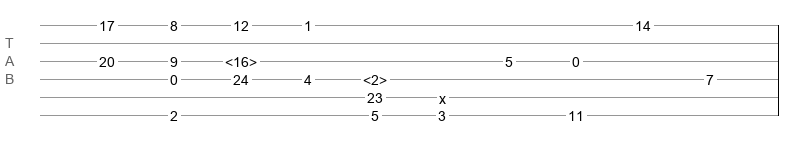0: (170, 72, 178, 82), (572, 54, 580, 64)
1: (304, 18, 312, 28)
11: (568, 108, 584, 118)
12: (233, 18, 249, 28)
14: (635, 18, 651, 28)
17: (99, 18, 115, 28)
2: (170, 108, 178, 118)
20: (99, 54, 115, 64)
23: (367, 90, 383, 100)
24: (233, 72, 249, 82)
3: (438, 108, 446, 118)
4: (304, 72, 312, 82)
5: (371, 108, 379, 118), (505, 54, 513, 64)
7: (706, 72, 714, 82)
8: (170, 18, 178, 28)
9: (170, 54, 178, 64)
harmonic: (225, 54, 257, 64), (363, 72, 387, 82)
x: (439, 91, 446, 99)
